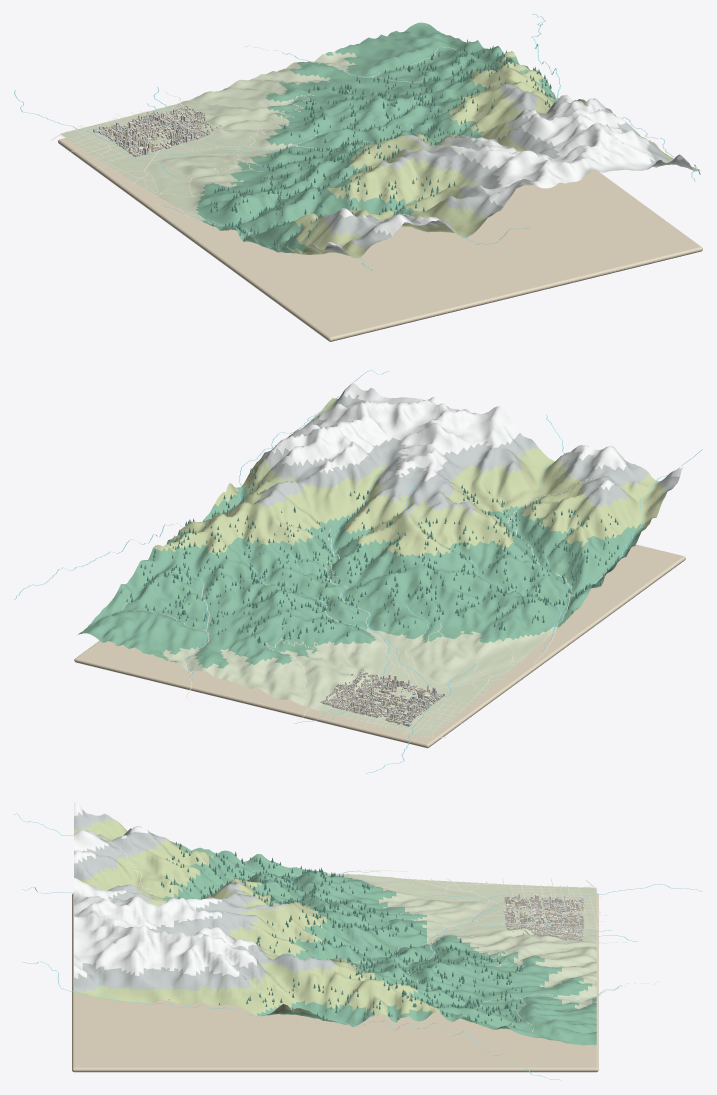
File: almaty_diorama.glb
The picture shows the model from 3 angles, top to bottom: view 1: azimuth 30°, elevation 25°; view 2: azimuth 150°, elevation 25°; view 3: azimuth 270°, elevation 25°; orthographic projection. The views are drawn at different scales.
Visible parts, largest first — view 1: Sculpted terrain, Rounded diorama base, Stylised alpine forest, Almaty city blocks, Road network, Mountain rivers; view 2: Sculpted terrain, Rounded diorama base, Stylised alpine forest, Almaty city blocks, Road network, Mountain rivers; view 3: Sculpted terrain, Rounded diorama base, Stylised alpine forest, Almaty city blocks, Road network, Mountain rivers.
Boxes of the visible parts, x1,y1,x2,y2 form: Sculpted terrain: [60, 22, 700, 258]; Rounded diorama base: [58, 138, 702, 341]; Stylised alpine forest: [210, 39, 554, 249]; Almaty city blocks: [93, 105, 650, 157]; Road network: [51, 45, 456, 235]; Mountain rivers: [14, 14, 700, 270]; Sculpted terrain: [78, 382, 683, 738]; Rounded diorama base: [74, 544, 685, 748]; Stylised alpine forest: [120, 468, 630, 645]; Almaty city blocks: [286, 423, 444, 726]; Road network: [122, 474, 607, 737]; Mountain rivers: [14, 370, 702, 773]; Sculpted terrain: [74, 802, 596, 1045]; Rounded diorama base: [72, 893, 598, 1072]; Stylised alpine forest: [161, 841, 522, 1028]; Almaty city blocks: [168, 894, 584, 1000]; Road network: [108, 840, 660, 1031]; Mountain rivers: [14, 813, 702, 1080].
Bounding box in the file's own units: 26.83 × 6.48 × 35.16.
